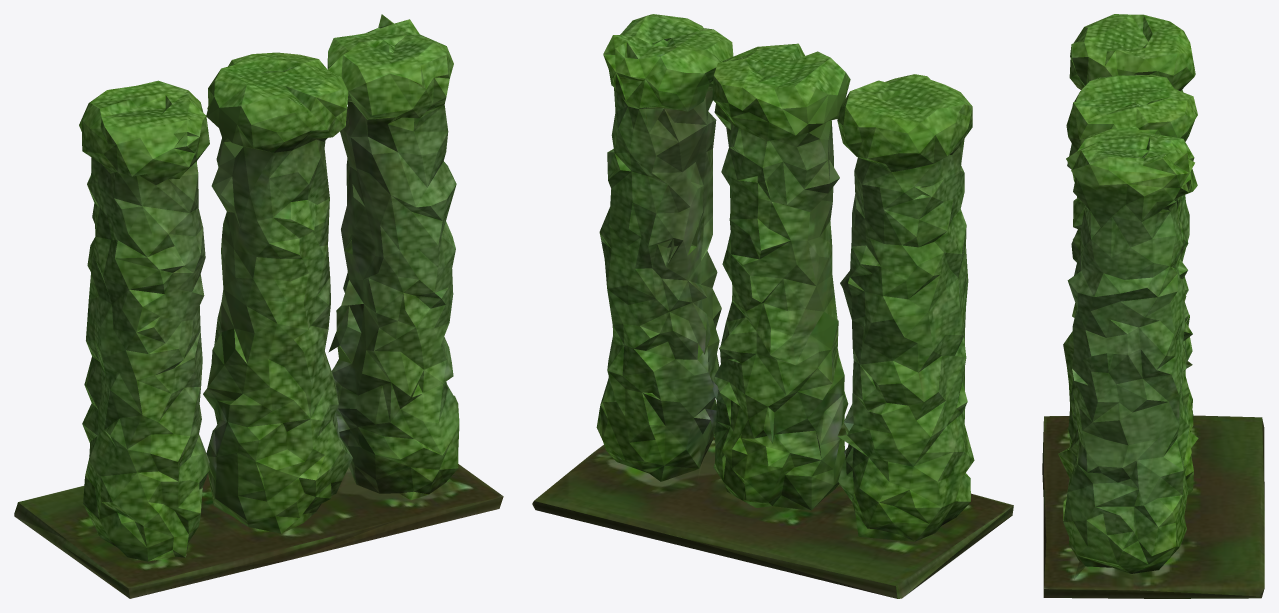
File: hedge.glb
3 views of the same model, side by side, from view 1: azimuth 30°, elevation 25°; view 2: azimuth 150°, elevation 25°; view 3: azimuth 270°, elevation 25° (orthographic). The views are drawn at different scales.
Parts seen in each view (by area): view 1: textured_mesh.obj; view 2: textured_mesh.obj; view 3: textured_mesh.obj.
Boxes of the visible parts, x1=… form: textured_mesh.obj: x1=14, y1=14, x2=503, y2=598; textured_mesh.obj: x1=532, y1=14, x2=1013, y2=598; textured_mesh.obj: x1=1042, y1=14, x2=1264, y2=598.
Size of the model in its own units: 1.14 by 1.3 by 0.6127.
Materials: 1 (1 with a texture image).
